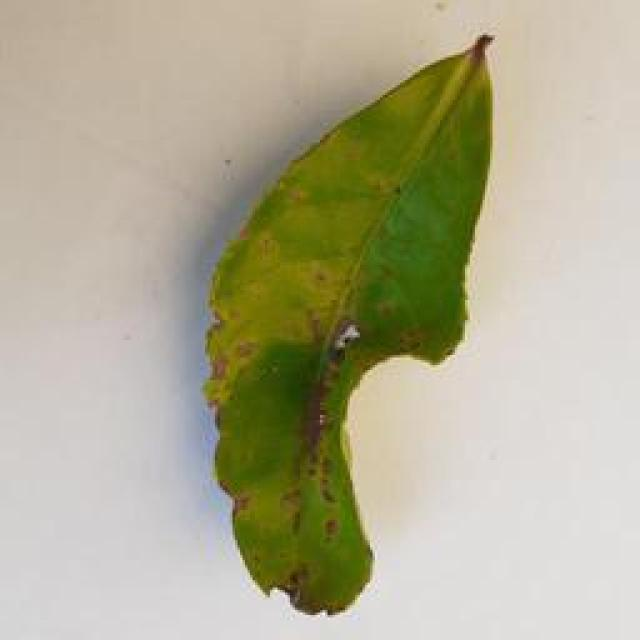Helopeltis: (183, 27, 514, 624)
